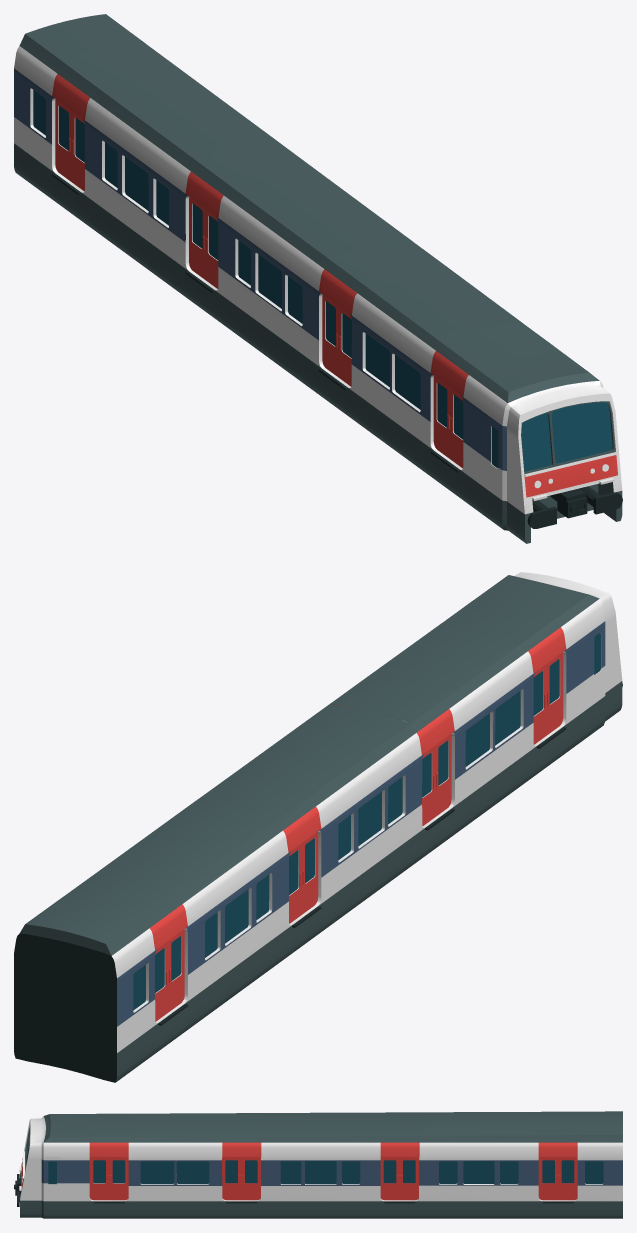
Rendered from SM_Locomotive.fbx.
3 views of the same model, one above another, from view 1: azimuth 30°, elevation 25°; view 2: azimuth 150°, elevation 25°; view 3: azimuth 270°, elevation 25° (orthographic). The views are drawn at different scales.
Visible parts, largest first — view 1: SM_Locomotive; view 2: SM_Locomotive; view 3: SM_Locomotive.
Boxes of the visible parts, <box> form: SM_Locomotive: <box>14,14,622,543</box>; SM_Locomotive: <box>14,572,622,1082</box>; SM_Locomotive: <box>14,1111,622,1218</box>.
Bounding box in the file's own units: 288 × 351 × 2345.
1 material, 1 textured.
